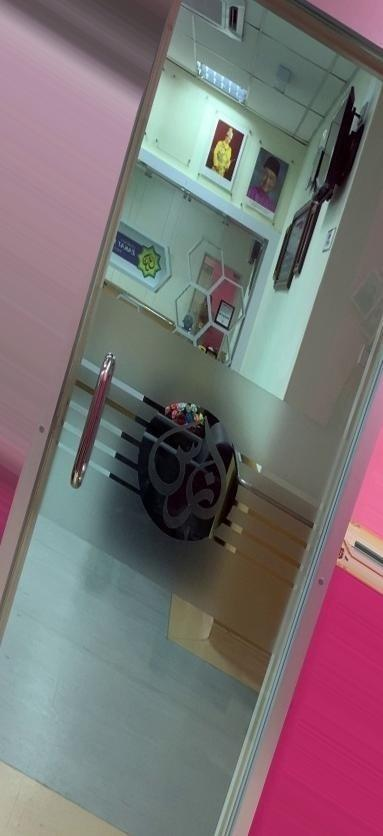door: (0, 0, 383, 836)
light: (190, 53, 263, 118)
